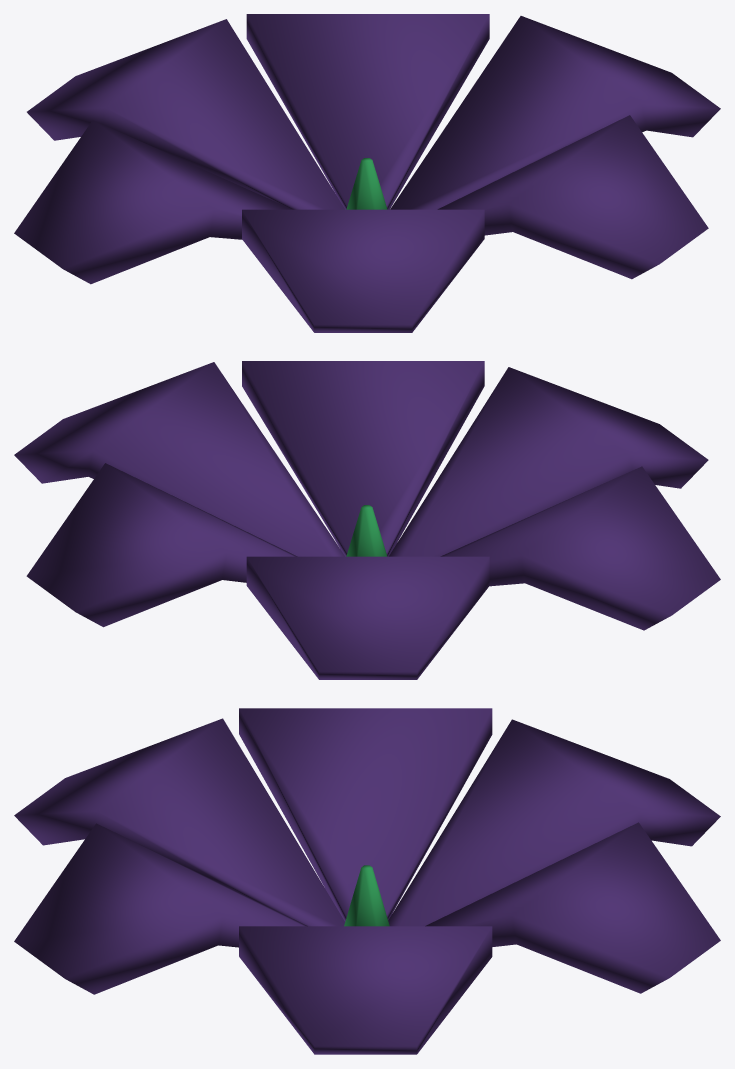
Rendered from IndumentoFlor.glb.
3 renders of one model, top to bottom at view 1: azimuth 30°, elevation 25°; view 2: azimuth 150°, elevation 25°; view 3: azimuth 270°, elevation 25°, orthographic. The views are drawn at different scales.
Visible parts, largest first — view 1: SombreroFlor; view 2: SombreroFlor; view 3: SombreroFlor.
Boxes of the visible parts, x1,y1,x2,y2 form: SombreroFlor: [14, 14, 720, 332]; SombreroFlor: [14, 361, 720, 679]; SombreroFlor: [14, 708, 720, 1054].
Size of the model in its own units: 0.1938 by 0.0361 by 0.1728.
Materials: 1 (1 with a texture image).
